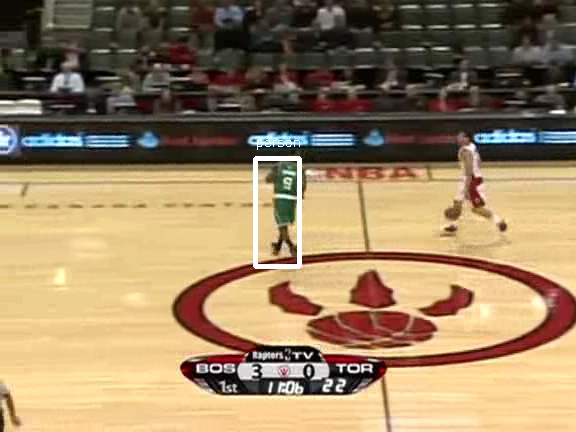person: (271, 152, 305, 233), (270, 152, 304, 233), (272, 152, 306, 233), (271, 151, 305, 232), (271, 153, 305, 234)
target_negative: (46, 235, 207, 432), (8, 330, 275, 419), (314, 350, 513, 378), (78, 12, 352, 30), (407, 383, 500, 386)
